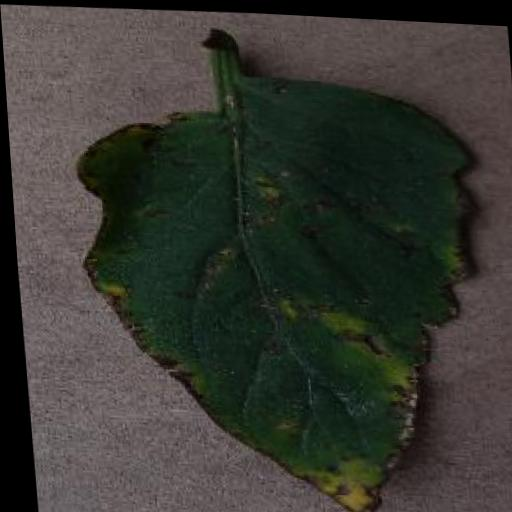Bacterial Spot: (40, 47, 512, 512)
